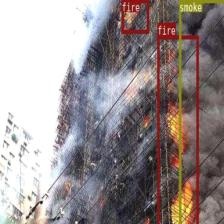fire: (157, 34, 198, 224), (121, 0, 149, 33)
smoke: (178, 0, 224, 224)
